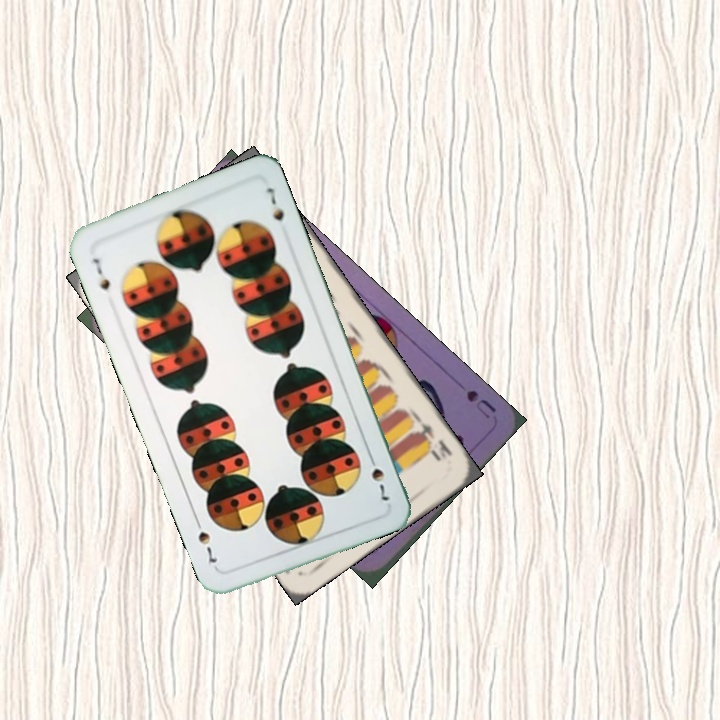E10: (410, 414, 455, 464)
S7: (364, 449, 392, 504), (88, 253, 113, 293)
SU: (462, 386, 499, 421)
